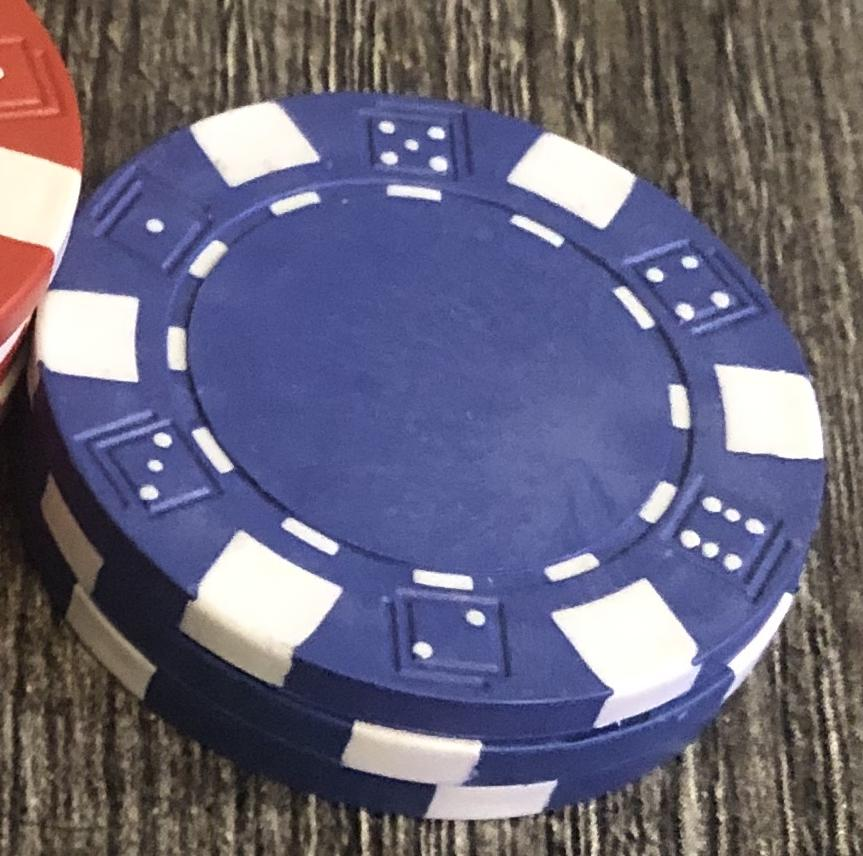Chip: (1, 1, 863, 856)
